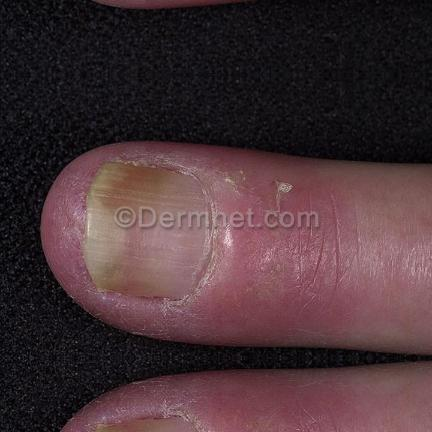Nail: (83, 161, 218, 299), (92, 415, 198, 432)
